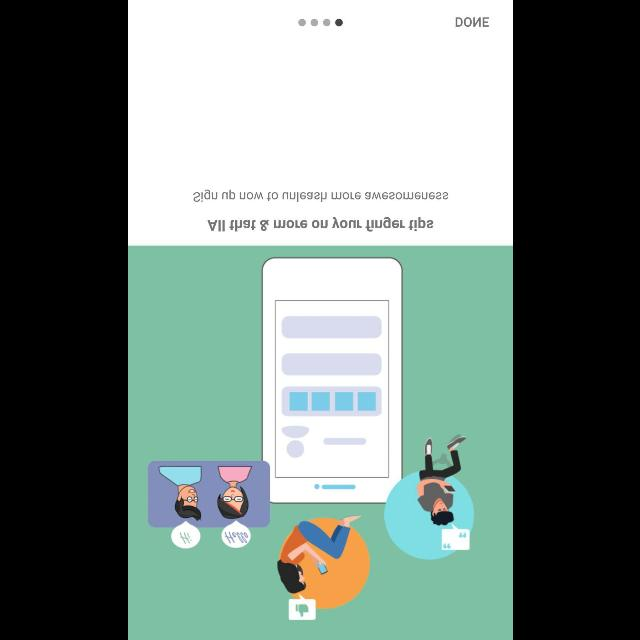image: (146, 256, 474, 620)
pageindicator: (298, 18, 342, 26)
text: (207, 216, 433, 232), (192, 190, 448, 202), (454, 17, 488, 27)
